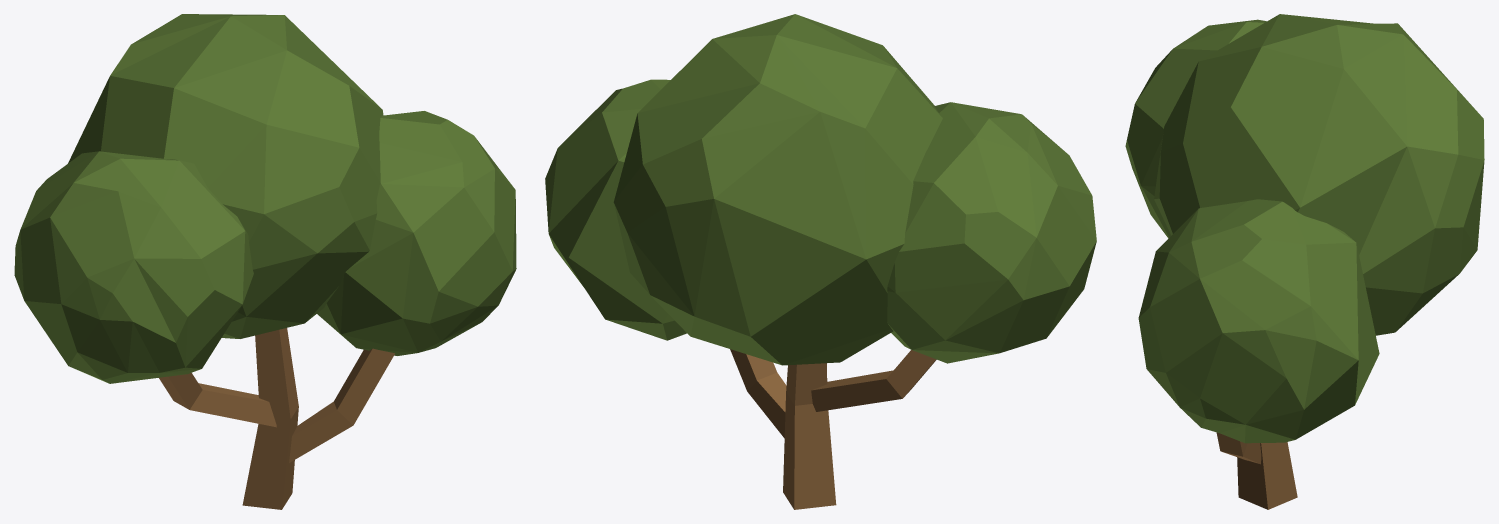
The model's file is Bush_3_2.fbx.
The picture shows the model from 3 angles, left to right: view 1: azimuth 30°, elevation 25°; view 2: azimuth 150°, elevation 25°; view 3: azimuth 270°, elevation 25°; orthographic projection. The views are drawn at different scales.
Visible parts, largest first — view 1: Bush_3_2; view 2: Bush_3_2; view 3: Bush_3_2.
Boxes of the visible parts, x1,y1,x2,y2 form: Bush_3_2: (14,14,516,509); Bush_3_2: (545,14,1096,509); Bush_3_2: (1125,14,1484,509).
Size of the model in its own units: 76.04 by 69.85 by 48.23.
